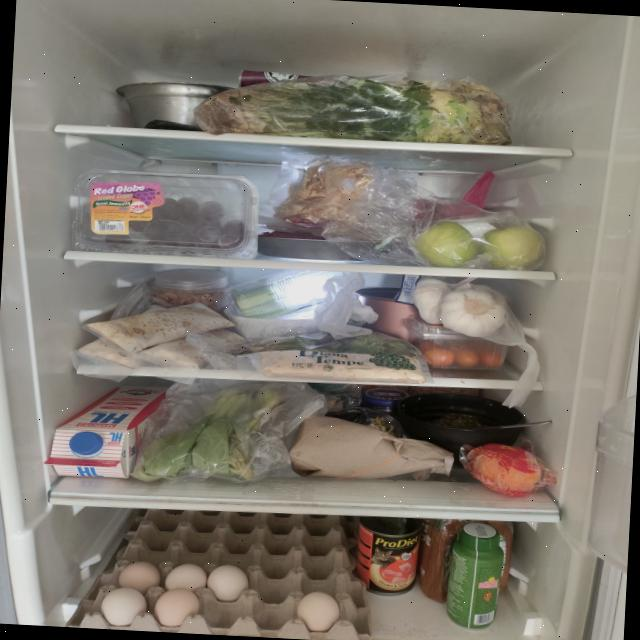apple: (415, 218, 478, 268), (479, 223, 540, 270)
egg: (67, 500, 379, 640)
garlic: (412, 278, 508, 340)
grape: (105, 192, 250, 250)
leafy_greens: (194, 67, 516, 148)
orange: (468, 441, 545, 500)
pakchoy: (136, 381, 288, 488)
tempeh: (77, 297, 248, 376), (259, 348, 427, 386)
